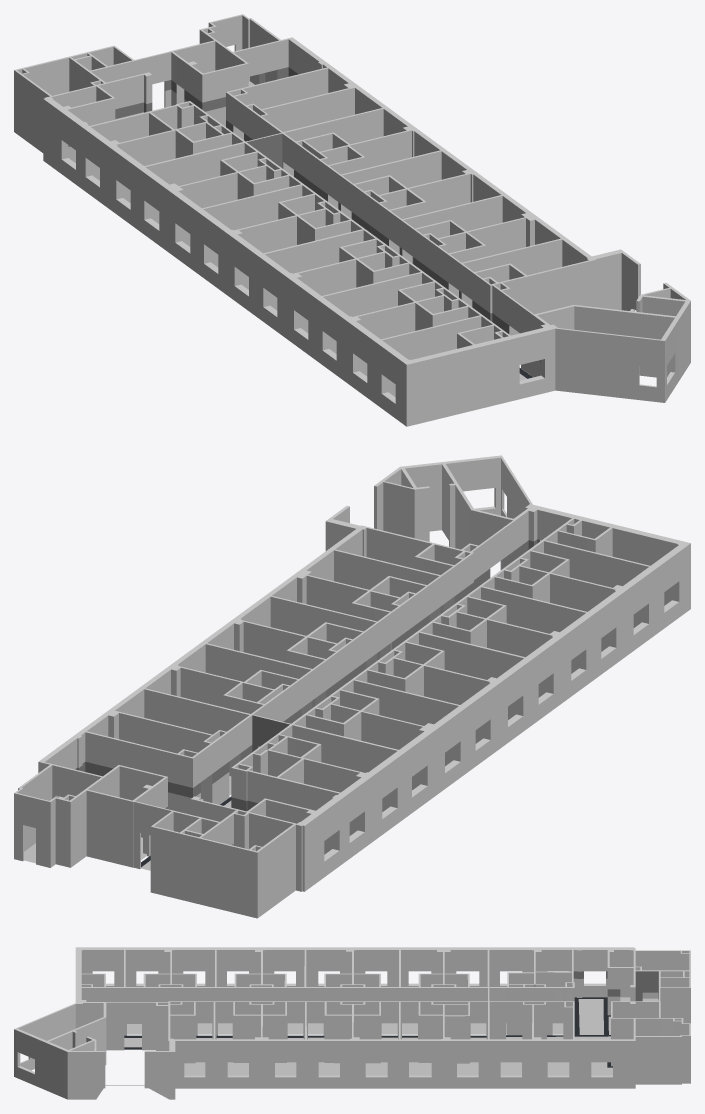
The model's file is Palata2_3dFloor.fbx.
3 views of the same model, one above another, from view 1: azimuth 30°, elevation 25°; view 2: azimuth 150°, elevation 25°; view 3: azimuth 270°, elevation 25° (orthographic). The views are drawn at different scales.
Parts seen in each view (by area): view 1: Plane; view 2: Plane; view 3: Plane.
Part boxes in pixels (left/top/right/bottom): Plane: left=14, top=14, right=690, bottom=426; Plane: left=14, top=455, right=690, bottom=918; Plane: left=14, top=947, right=690, bottom=1099.
Size of the model in its own units: 1976 by 419 by 5404.
